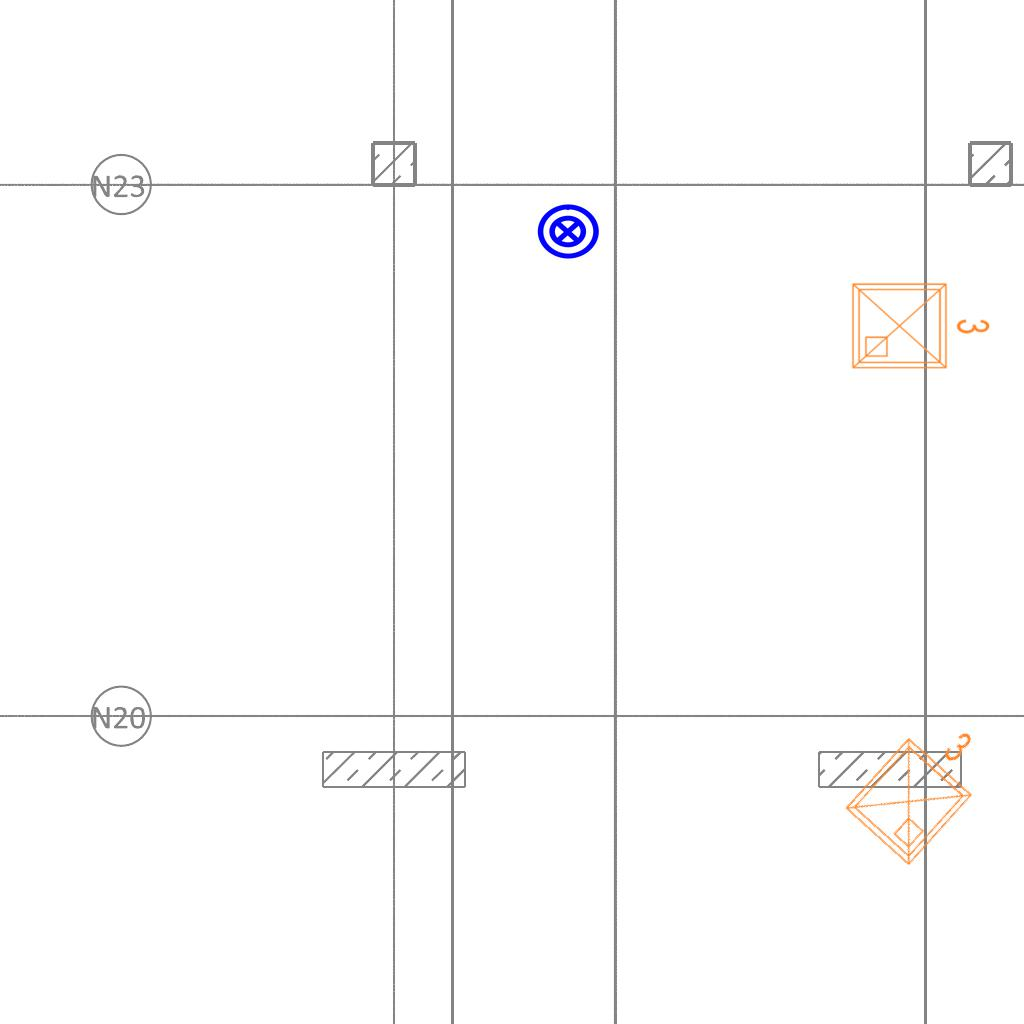Einbaudownlights_LED_Konferenzraeume: (832, 694, 1010, 876), (845, 272, 995, 376)
Taster_beleuchtet: (535, 199, 601, 265)
